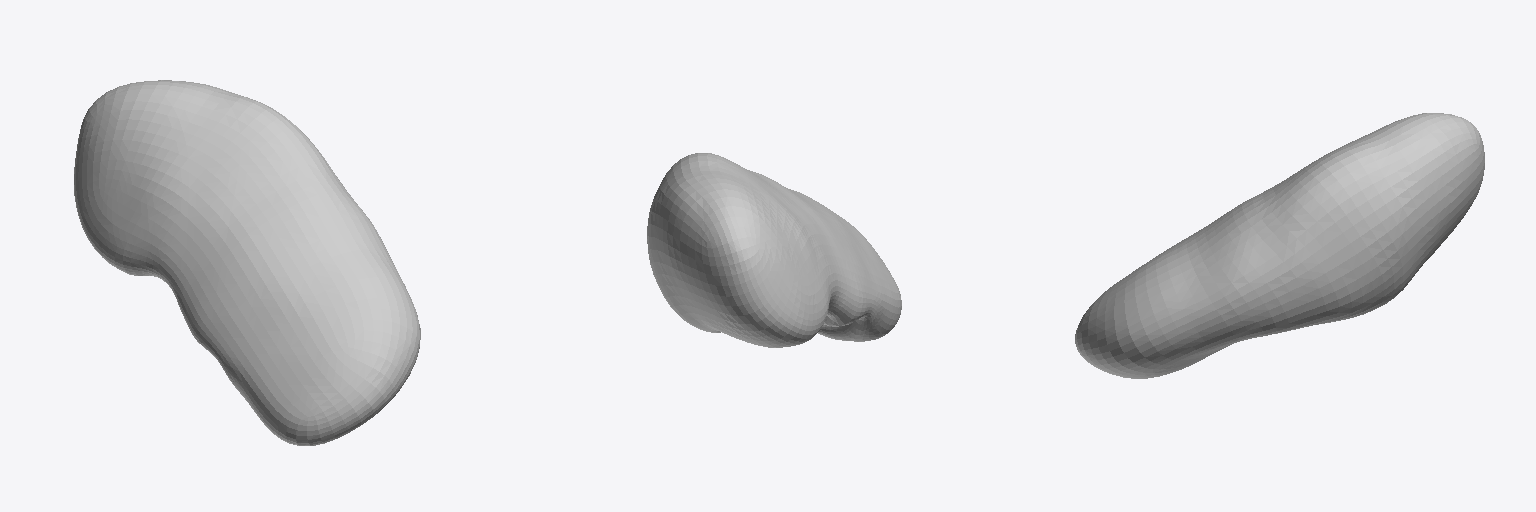
The model's file is 8K_Kidney_Right.OBJ.
3 views of the same model, side by side, from view 1: azimuth 30°, elevation 25°; view 2: azimuth 150°, elevation 25°; view 3: azimuth 270°, elevation 25° (orthographic).
Parts seen in each view (by area): view 1: ZBrushPolyMesh3D; view 2: ZBrushPolyMesh3D; view 3: ZBrushPolyMesh3D.
Part boxes in pixels (bbox=[...]): ZBrushPolyMesh3D: bbox=[74, 80, 420, 445]; ZBrushPolyMesh3D: bbox=[647, 153, 901, 347]; ZBrushPolyMesh3D: bbox=[1075, 113, 1484, 378].
Size of the model in its own units: 8.16 by 9.52 by 14.05.